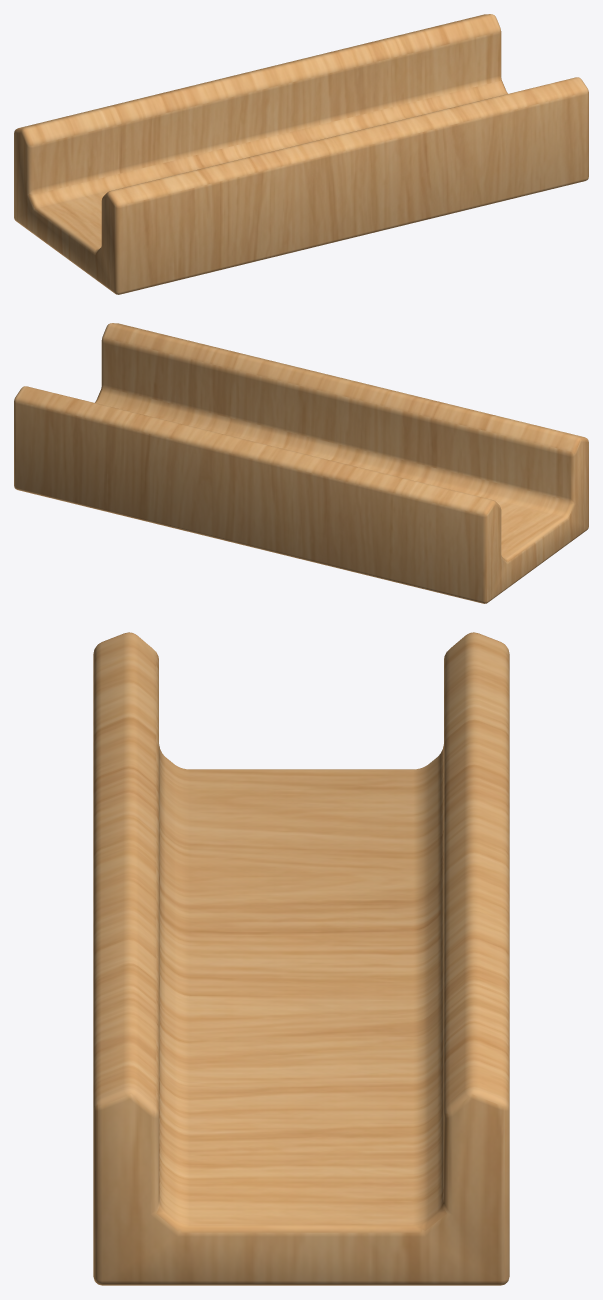
Rendered from channel_straight.glb.
3 renders of one model, top to bottom at view 1: azimuth 30°, elevation 25°; view 2: azimuth 150°, elevation 25°; view 3: azimuth 270°, elevation 25°, orthographic. The views are drawn at different scales.
Visible parts, largest first — view 1: Open wooden trough.001; view 2: Open wooden trough.001; view 3: Open wooden trough.001.
Boxes of the visible parts, x1,y1,x2,y2 form: Open wooden trough.001: [14, 14, 588, 294]; Open wooden trough.001: [14, 323, 588, 603]; Open wooden trough.001: [93, 632, 509, 1285].
Size of the model in its own units: 1 by 0.1978 by 0.38.
1 material, 1 textured.
